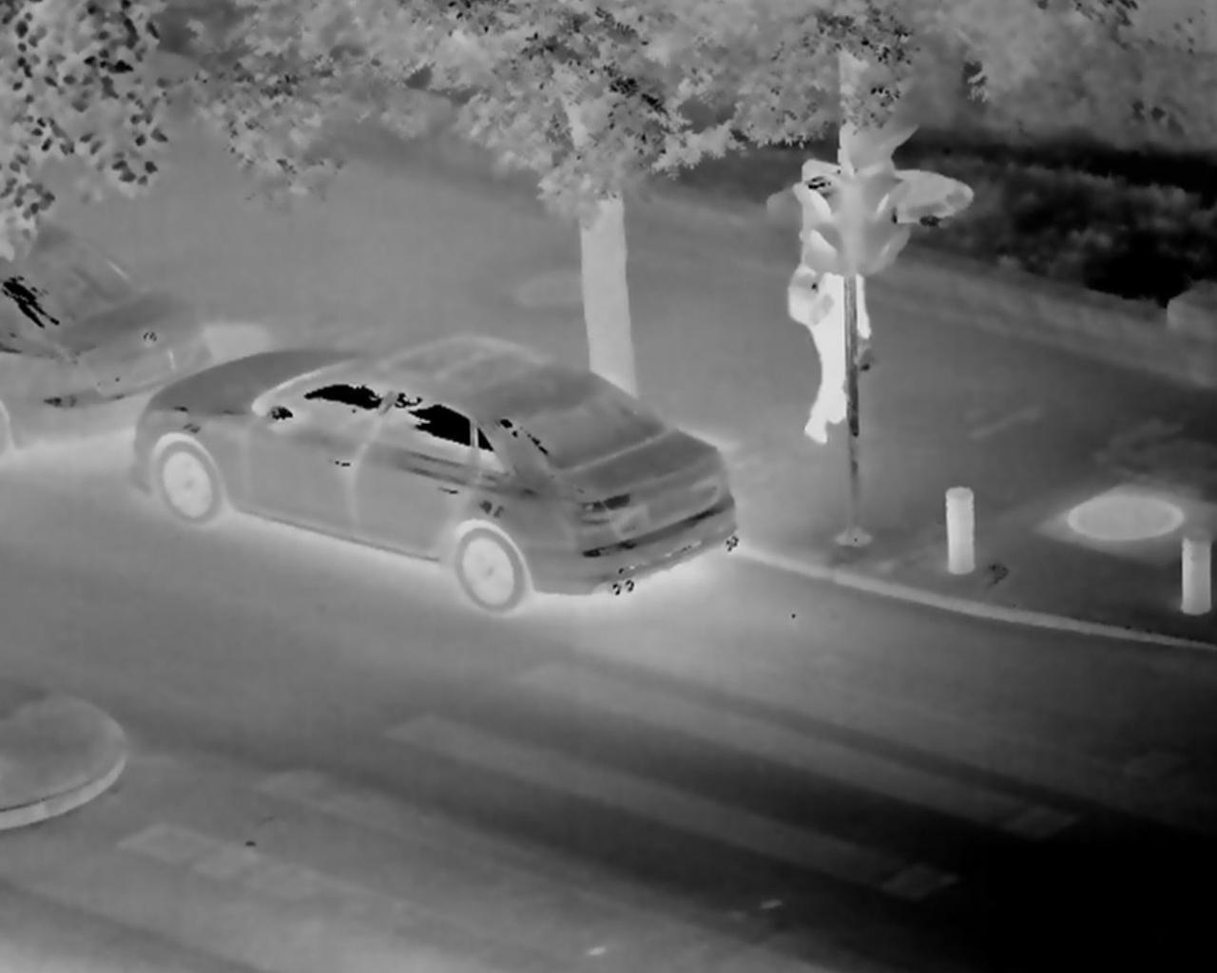person: (790, 178, 870, 463)
